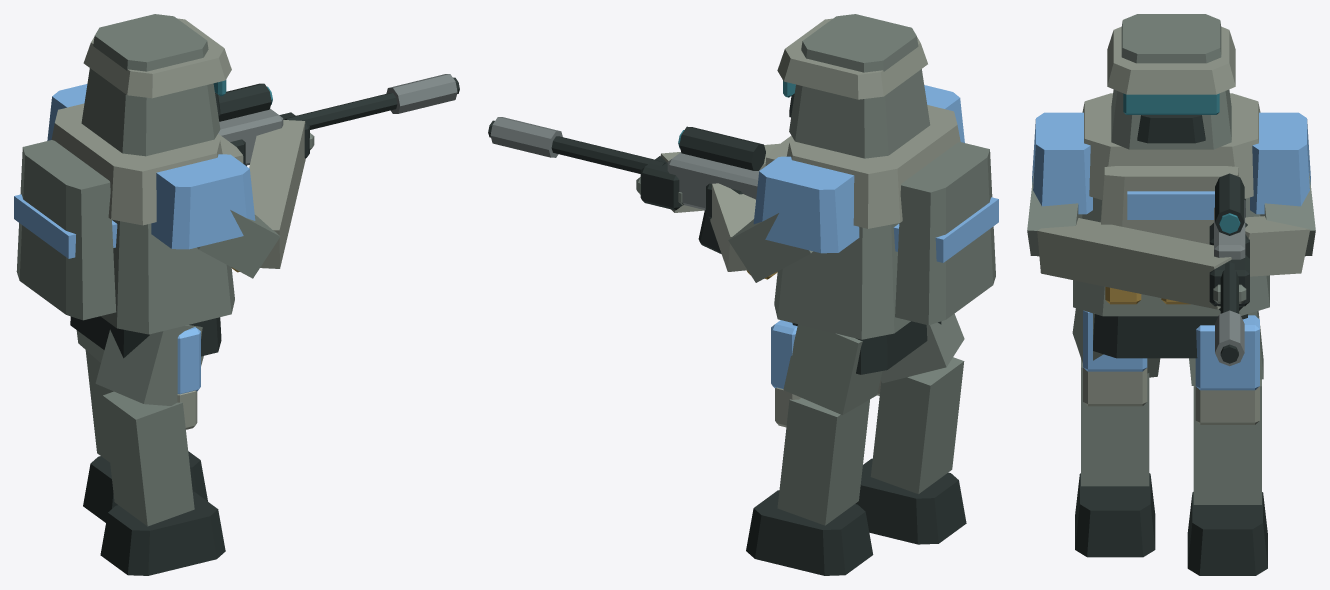
File: pathfinder.glb
The picture shows the model from 3 angles, left to right: view 1: azimuth 30°, elevation 25°; view 2: azimuth 150°, elevation 25°; view 3: azimuth 270°, elevation 25°; orthographic projection. The views are drawn at different scales.
Parts seen in each view (by area): view 1: pathfinder; view 2: pathfinder; view 3: pathfinder.
Boxes of the visible parts, left/top/right/bottom form: pathfinder: left=14, top=14, right=459, bottom=575; pathfinder: left=488, top=14, right=998, bottom=575; pathfinder: left=1027, top=14, right=1315, bottom=575.
Bounding box in the file's own units: 1.31 × 1.39 × 0.7183.
